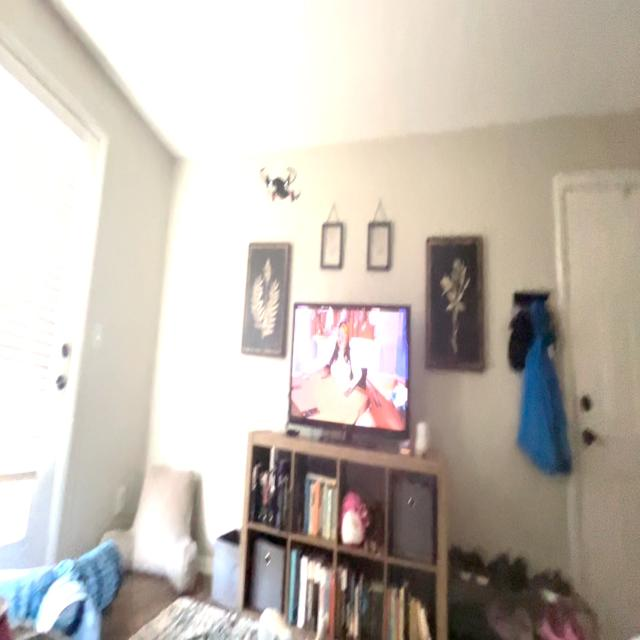drone: (244, 154, 304, 221)
